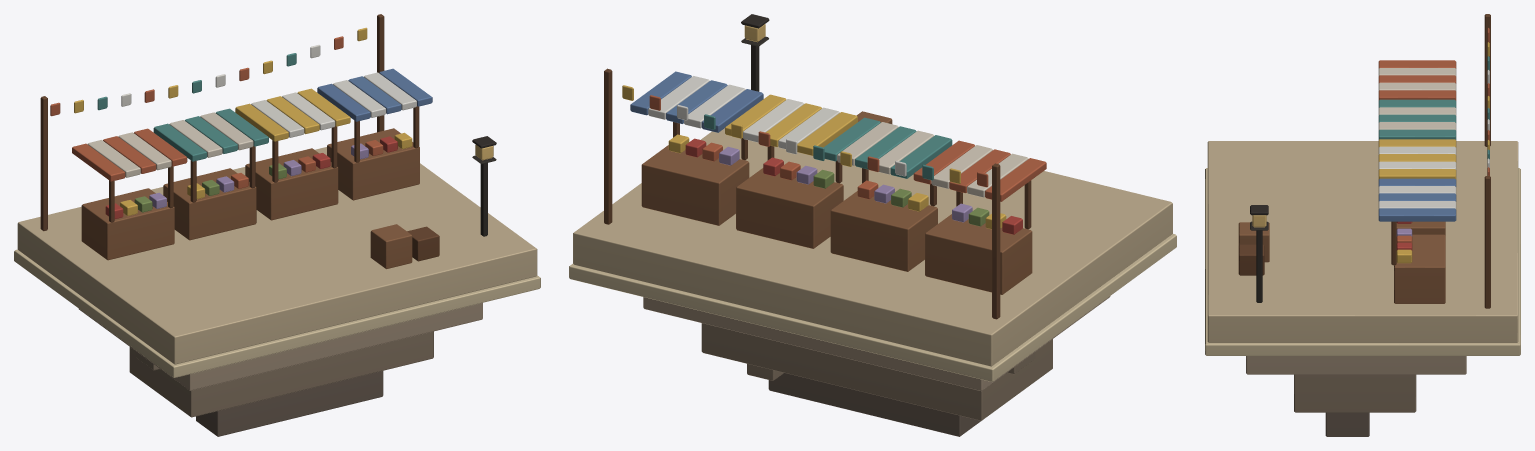
The model's file is region_10.glb.
The picture shows the model from 3 angles, left to right: view 1: azimuth 30°, elevation 25°; view 2: azimuth 150°, elevation 25°; view 3: azimuth 270°, elevation 25°; orthographic projection. The views are drawn at different scales.
Visible parts, largest first — view 1: region_10_static; view 2: region_10_static; view 3: region_10_static.
Part boxes in pixels (<box>): region_10_static: <box>14,14,540,436</box>; region_10_static: <box>569,14,1176,436</box>; region_10_static: <box>1205,14,1520,436</box>.
Bounding box in the file's own units: 8.1 × 6.37 × 6.1.
